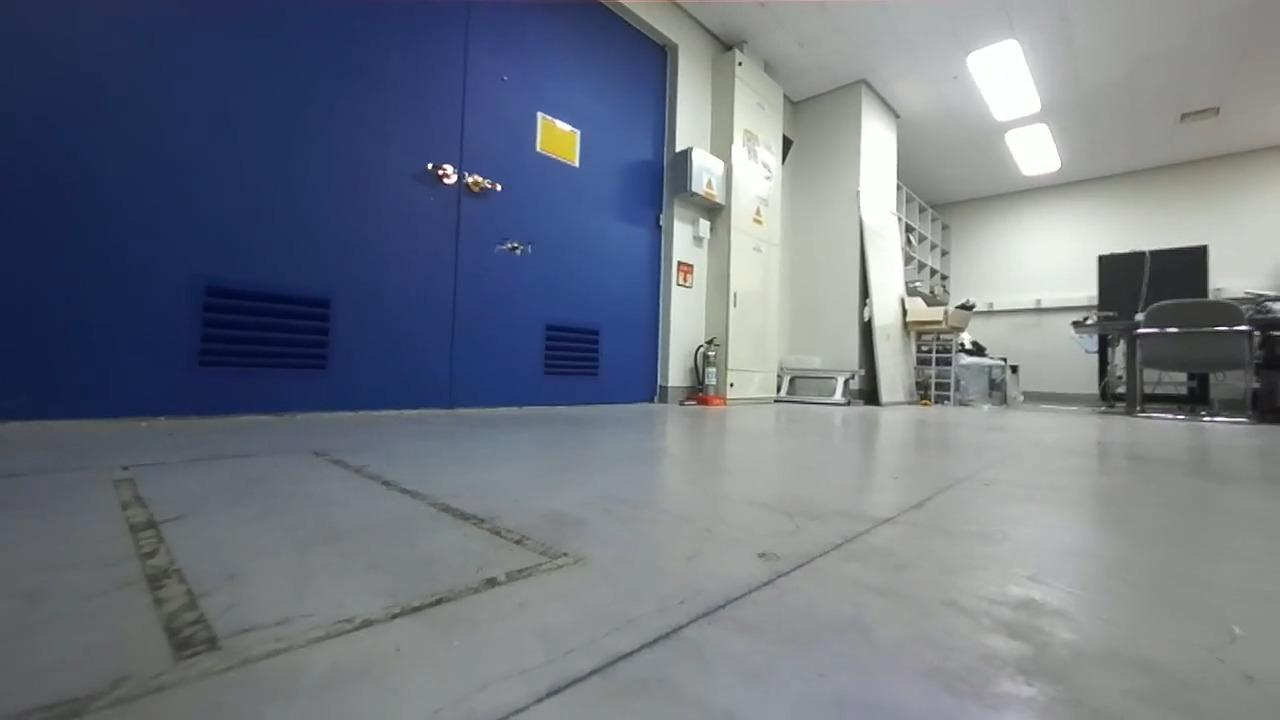crazyflie: (486, 233, 537, 262)
